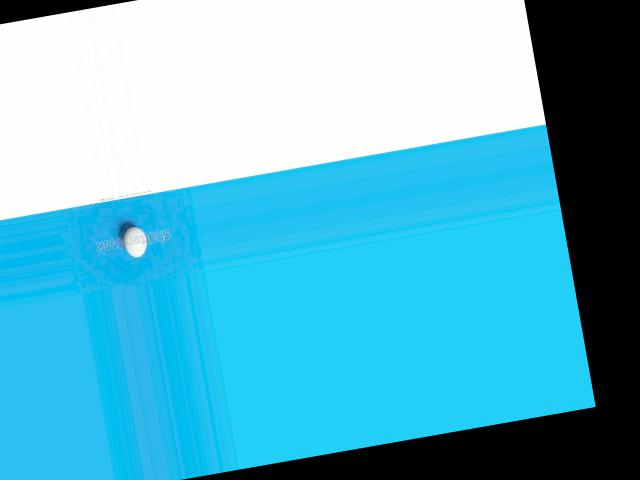egg: (121, 224, 148, 259)
